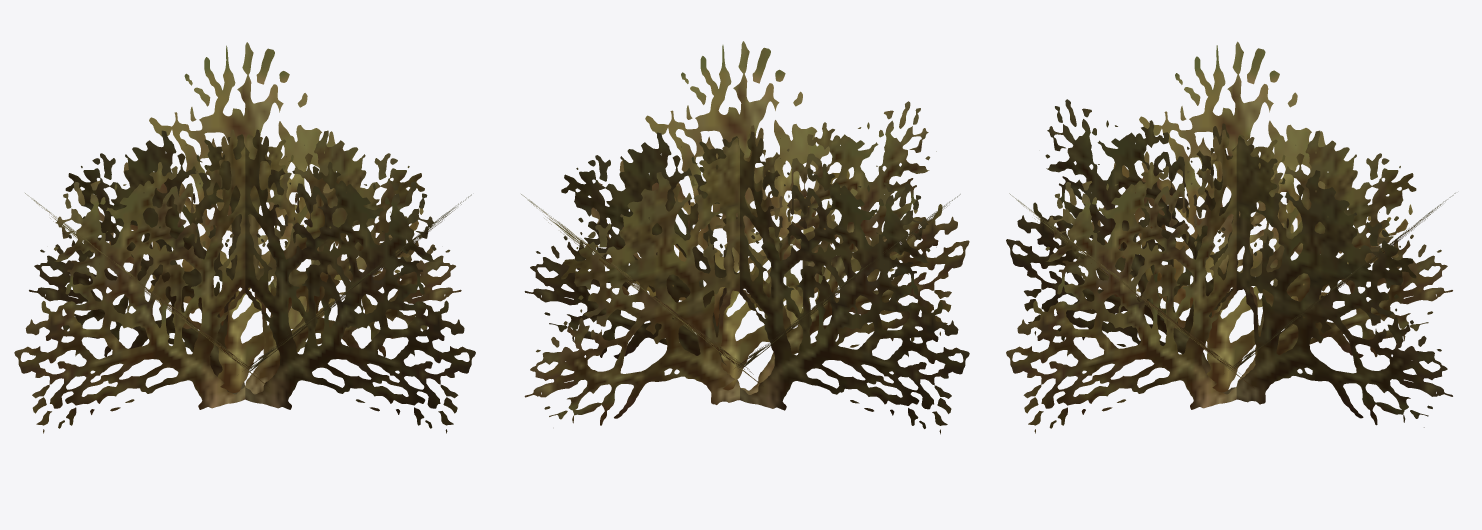
File: M4_Shrub1.glb
3 renders of one model, left to right at view 1: azimuth 30°, elevation 25°; view 2: azimuth 150°, elevation 25°; view 3: azimuth 270°, elevation 25°, orthographic.
Parts seen in each view (by area): view 1: M4_SHRUB1; view 2: M4_SHRUB1; view 3: M4_SHRUB1.
Boxes of the visible parts, bbox=[...] form: M4_SHRUB1: bbox=[14, 42, 475, 433]; M4_SHRUB1: bbox=[521, 41, 969, 434]; M4_SHRUB1: bbox=[1006, 41, 1455, 433].
Bounding box in the file's own units: 2.42 × 1.39 × 2.12.
1 material, 1 textured.
